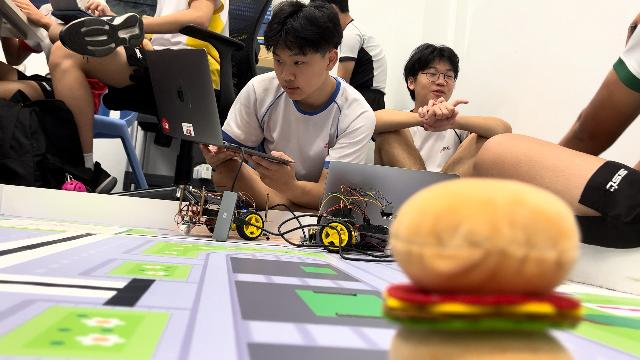burger: (382, 176, 594, 354)
